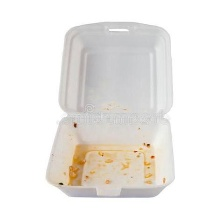foam_box: (41, 14, 181, 203)
